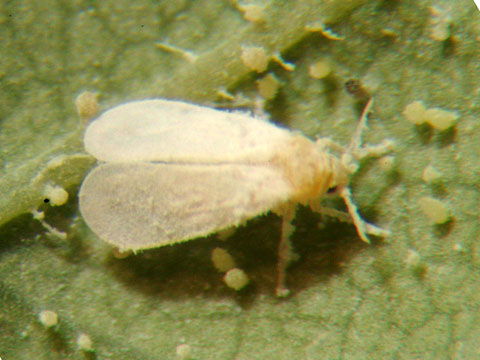whitefly: (78, 96, 399, 300)
